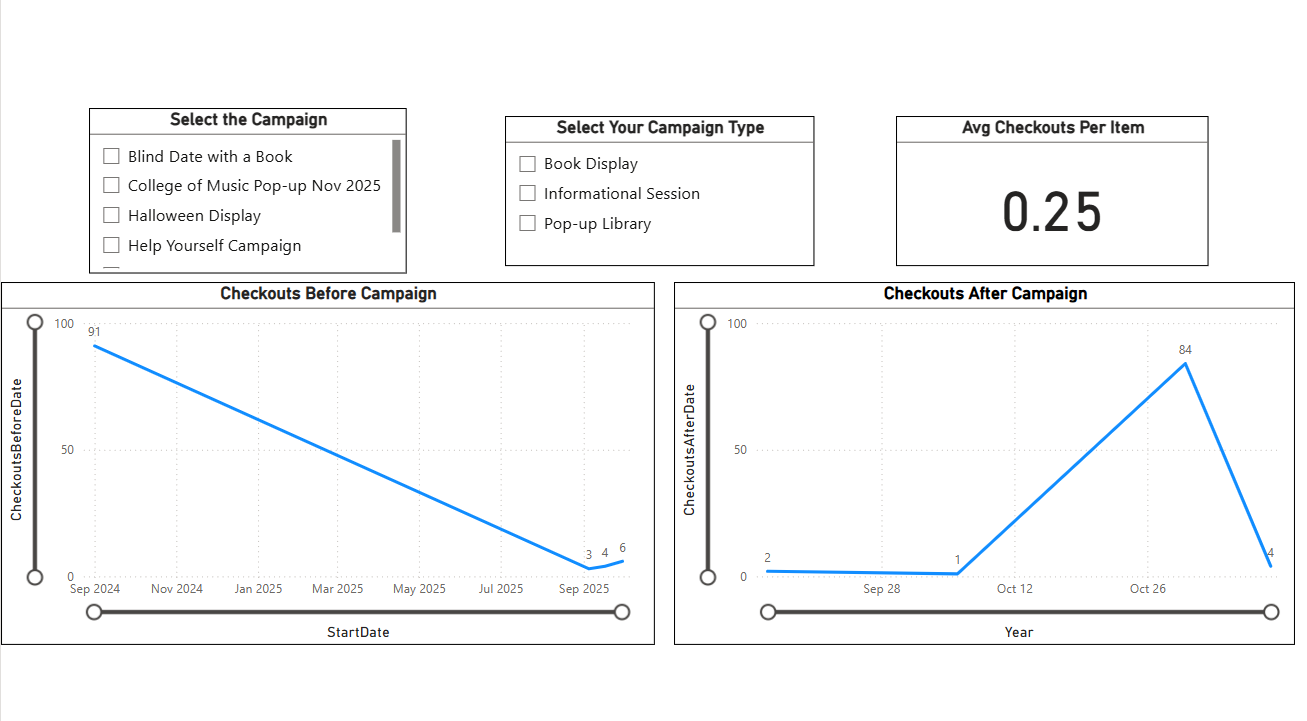

The page's visual inventory and layout, read from the dashboard file:
{"tool":"powerbi","page":{"name":"USAGE TRENDS","canvas":[1280,720],"ordinal":7},"visuals":[{"type":"lineChart","title":"Checkouts After Campaign","fields":{"Y":["H.vItemCheckoutsWithRecords.CheckoutsAfterDate"],"Category":["H.vItemCheckoutsWithRecords.EndDate.Variation.Date Hierarchy.Year","H.vItemCheckoutsWithRecords.EndDate.Variation.Date Hierarchy.Month","H.vItemCheckoutsWithRecords.EndDate.Variation.Date Hierarchy.Day"]},"box":[654.4,280,604.4,353.3],"z":0},{"type":"slicer","title":"Select the Campaign","fields":{"Values":["MergedPromoRecords.Campaign Name"]},"box":[86,111,309,161.2],"z":1000},{"type":"slicer","title":"Select Your Campaign Type","fields":{"Values":["MergedPromoRecords.Campaign Type"]},"box":[489.9,118.2,300.9,146],"z":2000},{"type":"card","title":"Avg Checkouts Per Item ","fields":{"Values":["MergedPromoRecords.Avg_Checkouts_Per_Item_3Months_AfterStart"]},"box":[870.4,118.2,304.5,146],"z":3000},{"type":"lineChart","title":"Checkouts Before Campaign","fields":{"Y":["H.vItemCheckoutsWithRecords.CheckoutsBeforeDate"],"Category":["H.vItemCheckoutsWithRecords.StartDate"]},"box":[0,280,635.6,353.3],"z":4000}]}

Visuals, with their boxes in screenshot pixels (x1, y1, x2, y2), scaled from the page's 1280x720 canvas onto the 1307x721 screenshot:
"Checkouts After Campaign" lineChart: [left=668, top=280, right=1285, bottom=634]
"Select the Campaign" slicer: [left=88, top=111, right=403, bottom=273]
"Select Your Campaign Type" slicer: [left=500, top=118, right=807, bottom=265]
"Avg Checkouts Per Item " card: [left=889, top=118, right=1200, bottom=265]
"Checkouts Before Campaign" lineChart: [left=0, top=280, right=649, bottom=634]
